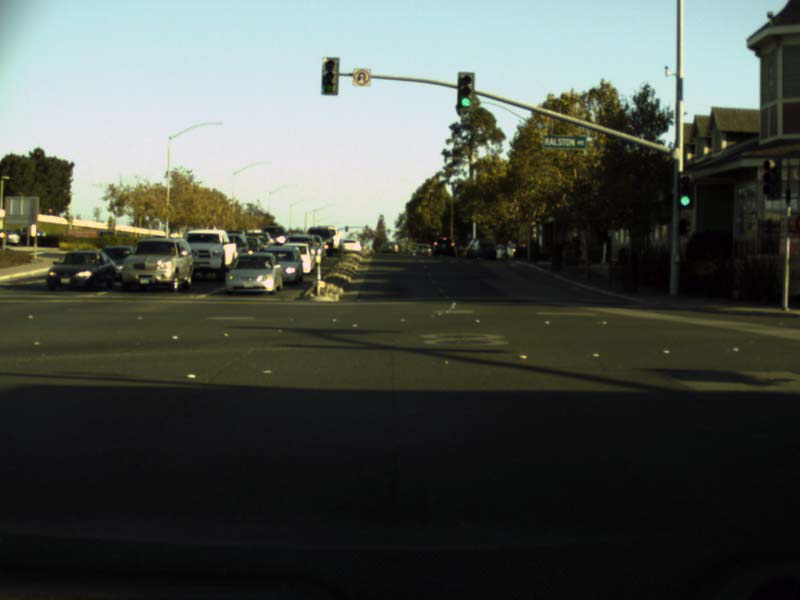Green: (457, 71, 473, 108), (678, 172, 692, 208)
